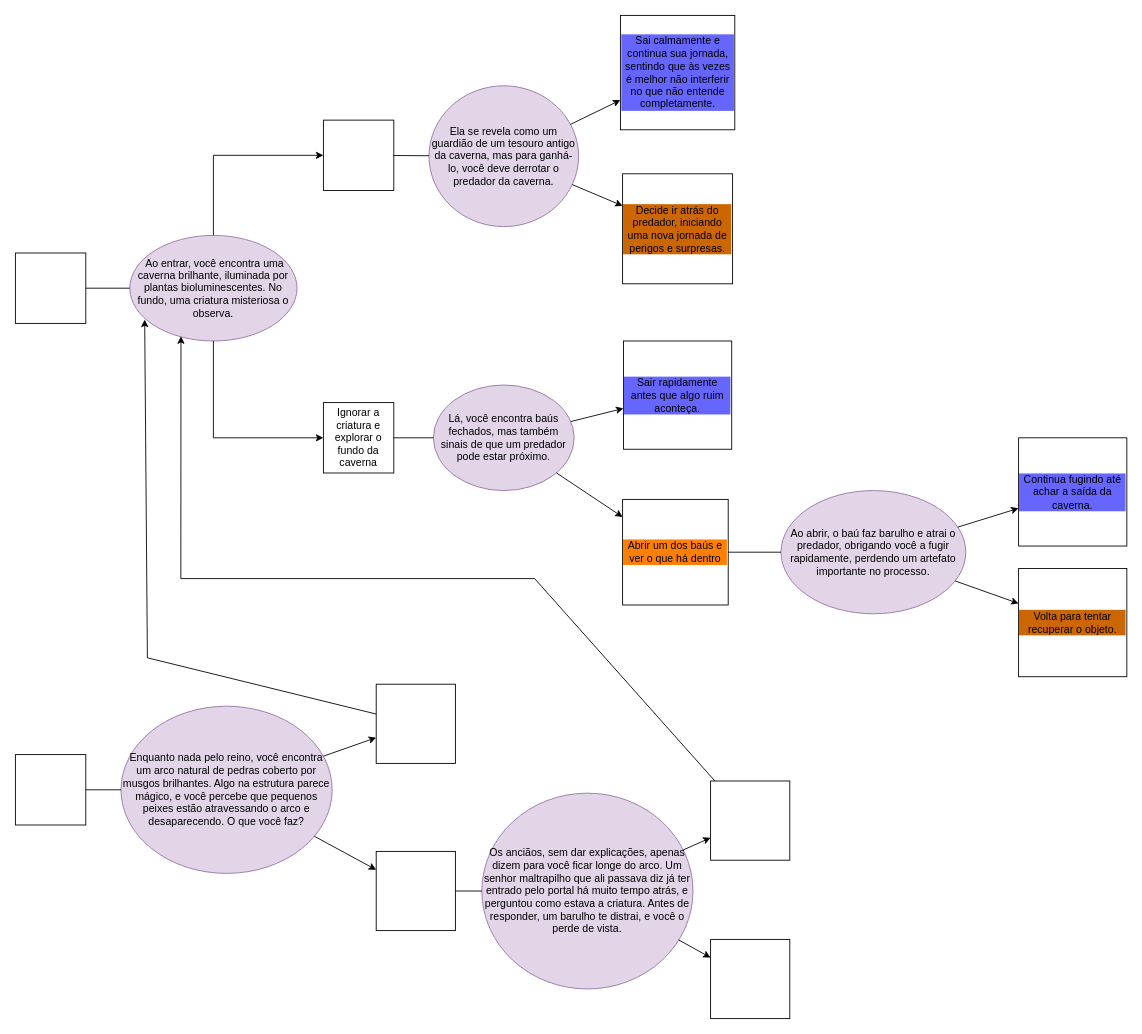
Some shapes in this 1142 by 1034 pixel diagram are drawn without their labels. Here are the shapes that lost their labels. From the top down, the box of each, then its label:
(323, 119, 394, 191): Conversar com a criatura
(15, 252, 86, 323): Explorar uma caverna submersa.
(375, 683, 455, 763): Atravessa o arco sem hesitar, movido(a) pela curiosidade.
(15, 754, 86, 825): Permanecer perto do reino e explorar ao redor.
(710, 780, 790, 860): Decide voltar e descobrir o que há através do arco
(375, 851, 455, 931): Decide voltar para o reino e conversar com os anciãos sobre o que viu.
(710, 939, 790, 1019): Prefere ouvir o conselho dos anciãos e seguir com sua viagem.
